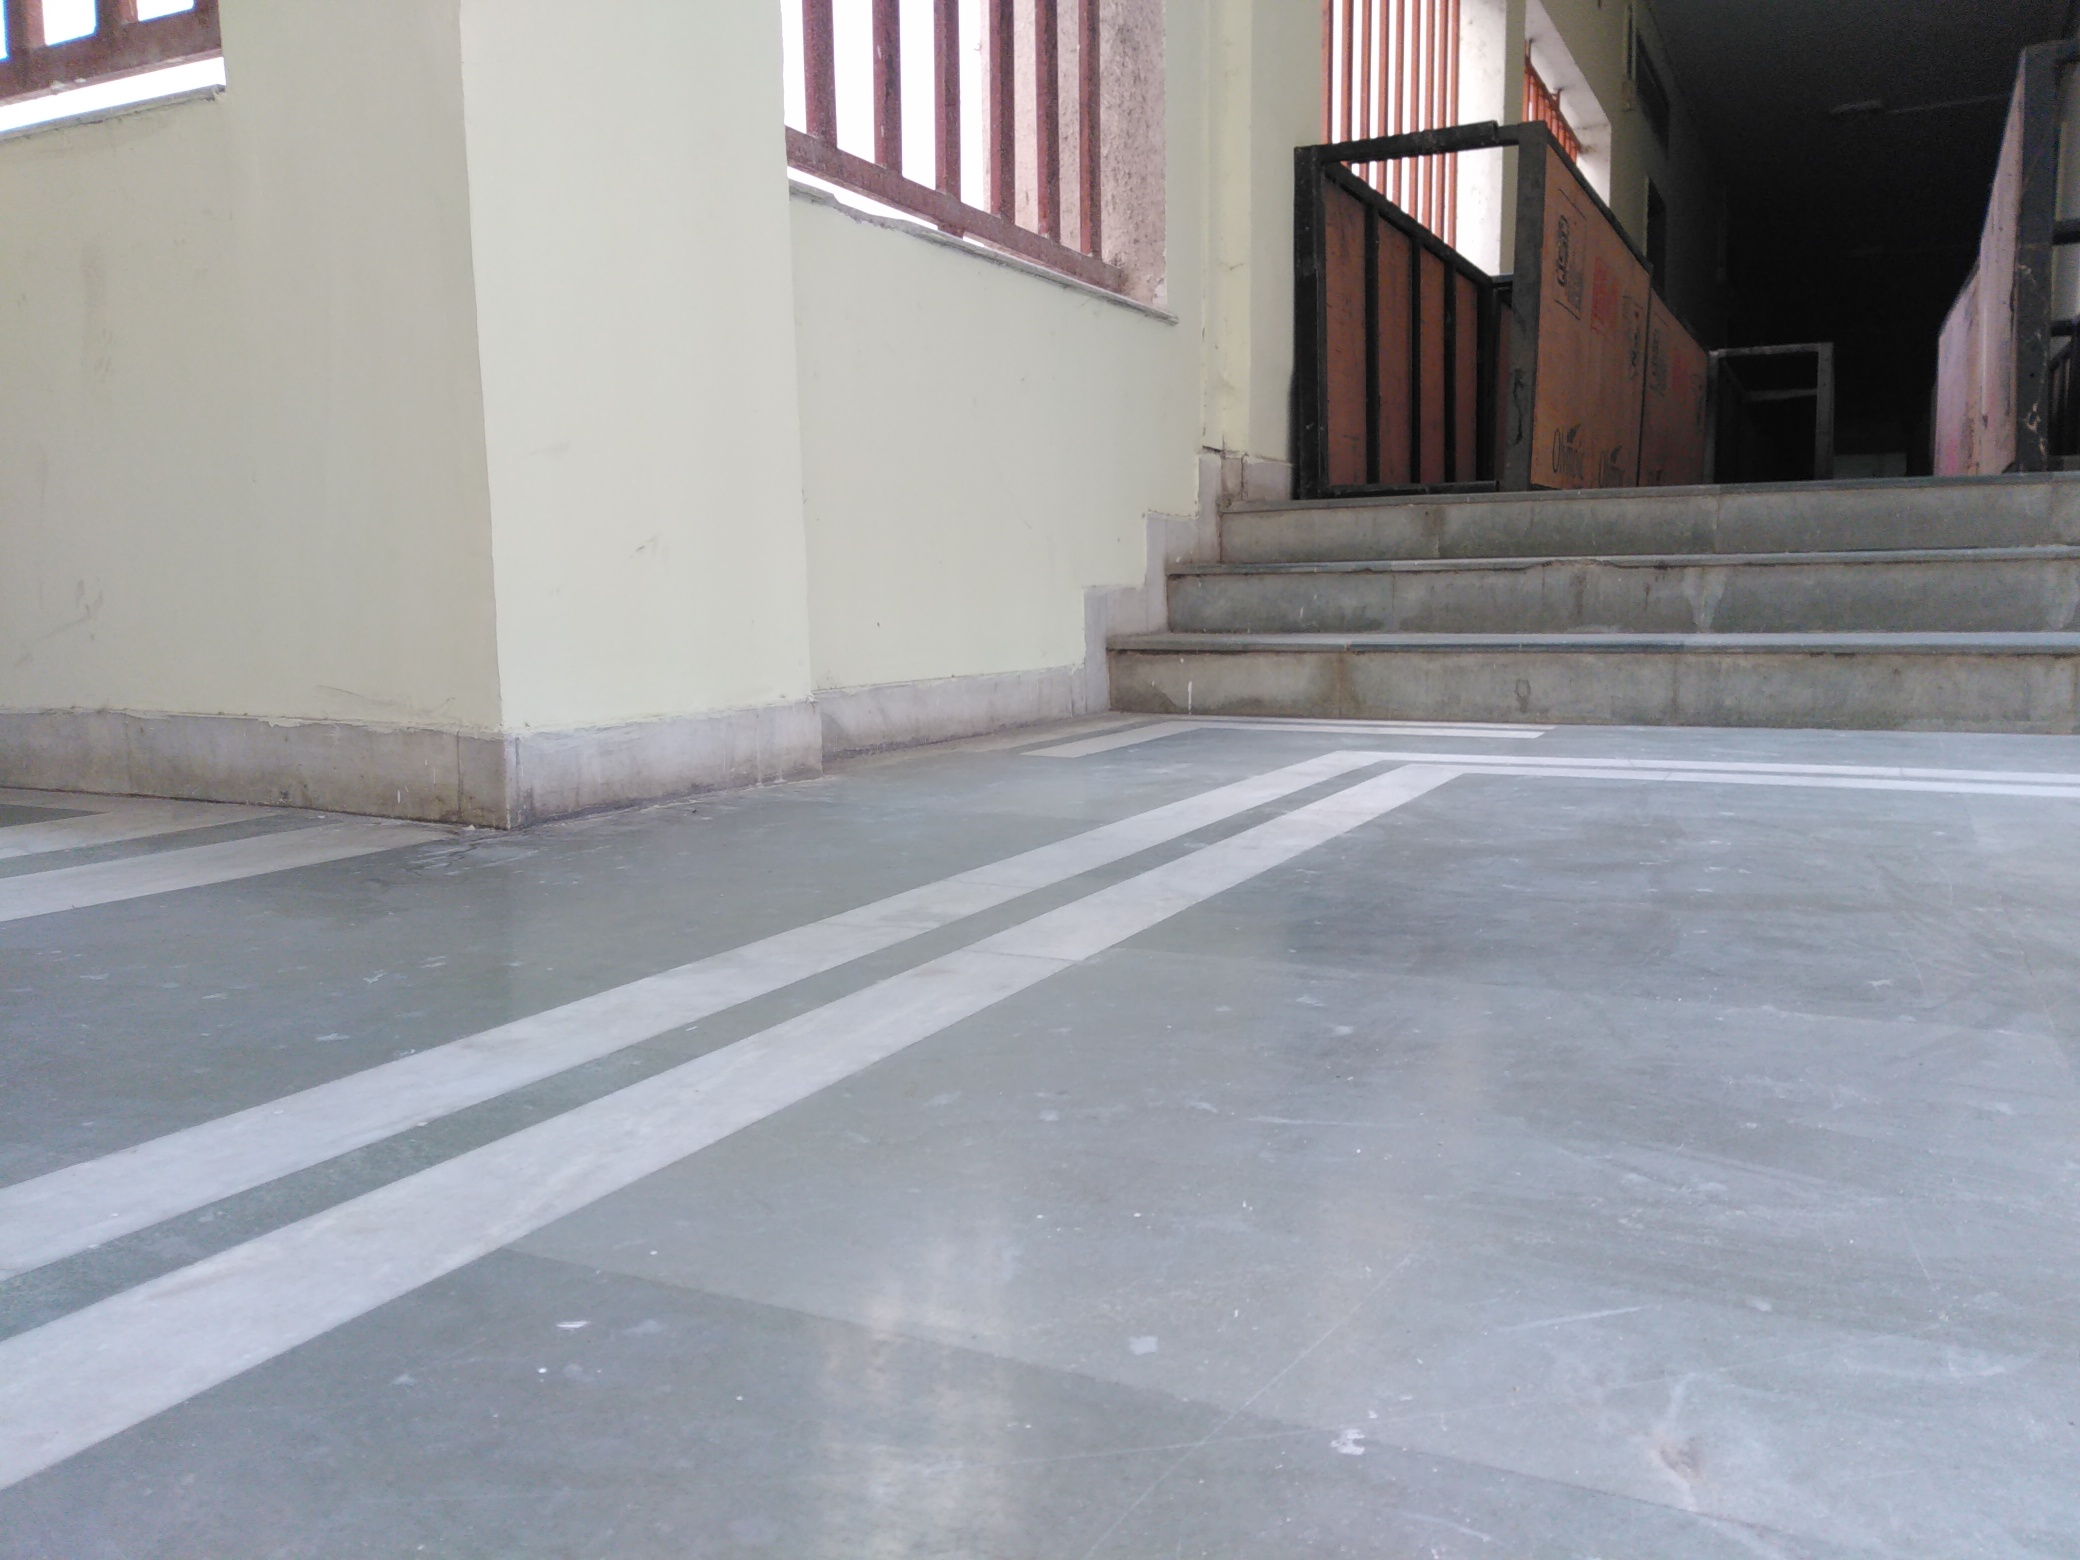stairs_up: (1097, 470, 2073, 719)
